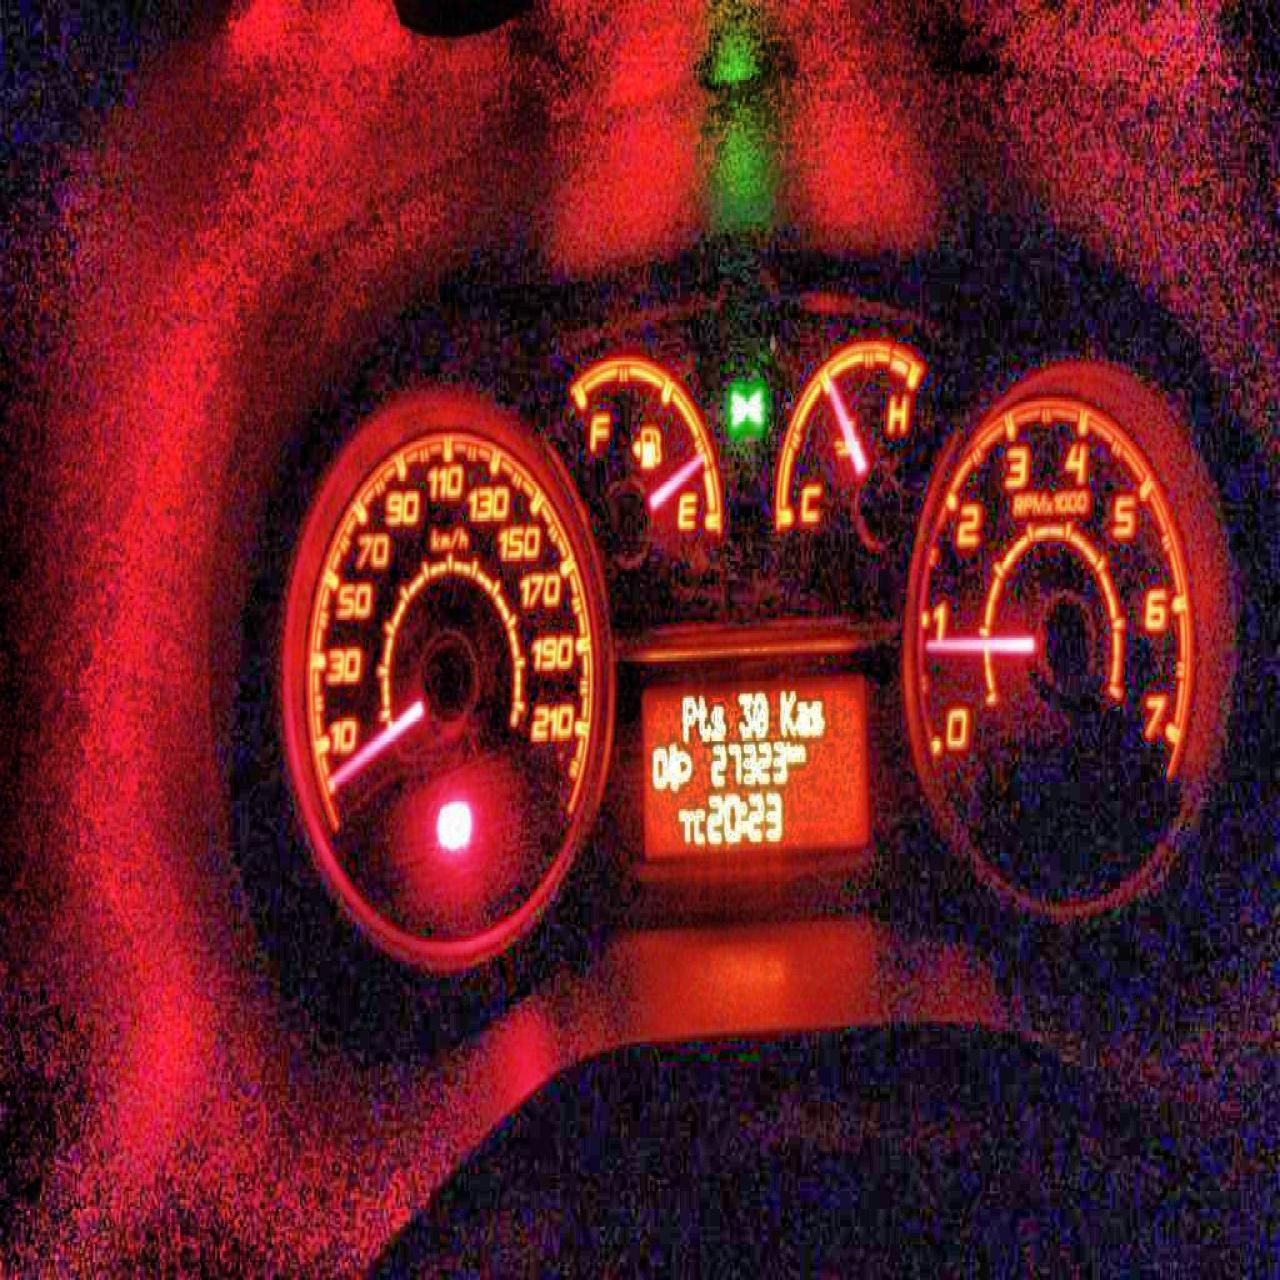0: (724, 791, 740, 845), (753, 687, 768, 735), (652, 742, 667, 787)
2: (748, 791, 763, 842), (707, 791, 722, 842), (756, 737, 771, 784), (712, 741, 727, 787)
3: (764, 789, 782, 840), (736, 689, 753, 738), (772, 737, 787, 782), (742, 740, 756, 782)
7: (726, 740, 740, 782), (678, 806, 688, 844)
X: (779, 687, 795, 737), (695, 694, 710, 742), (681, 694, 695, 742), (710, 702, 726, 737), (810, 697, 824, 735), (796, 697, 809, 735), (693, 806, 703, 844), (795, 740, 805, 762), (740, 797, 745, 836), (787, 740, 795, 764)
odometer: (636, 674, 869, 865)
